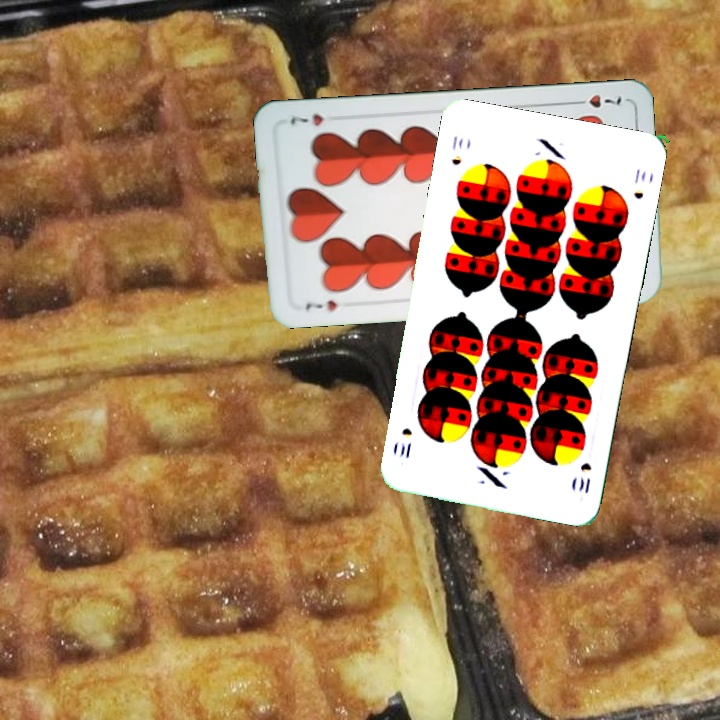H7: (568, 90, 624, 110), (301, 296, 339, 313)
S10: (574, 458, 594, 496), (447, 132, 466, 168)
